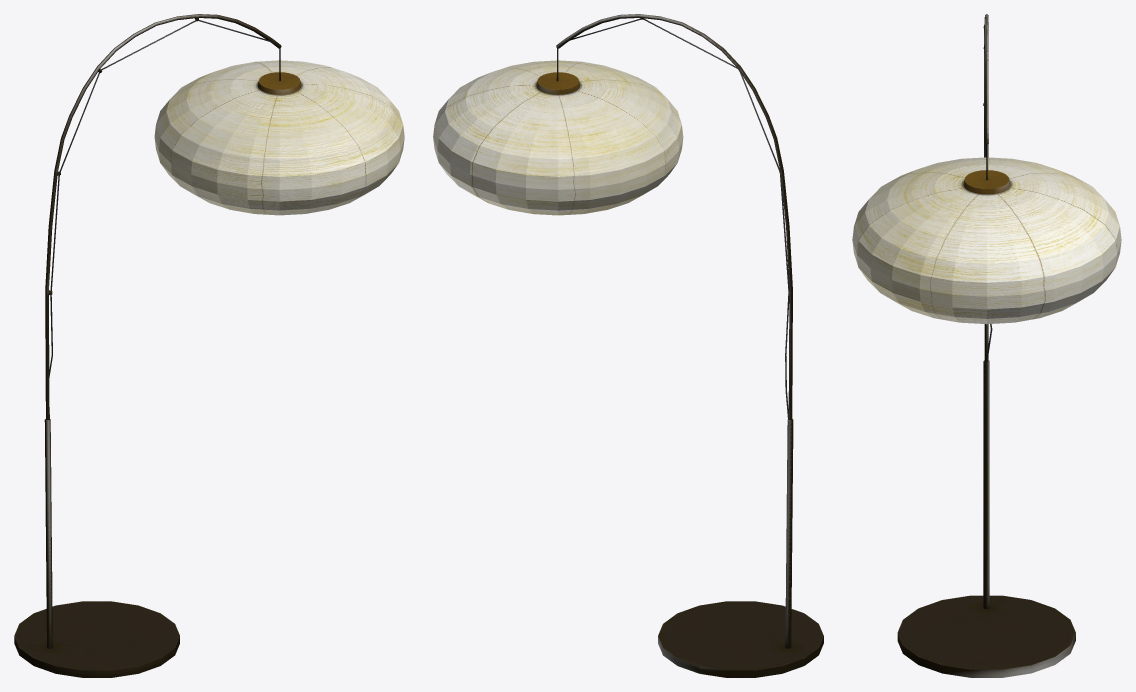
File: Lamp2.a.fbx
3 views of the same model, side by side, from view 1: azimuth 30°, elevation 25°; view 2: azimuth 150°, elevation 25°; view 3: azimuth 270°, elevation 25° (orthographic). The views are drawn at different scales.
Parts seen in each view (by area): view 1: Group 0; view 2: Group 0; view 3: Group 0.
Part boxes in pixels (left/top/right/bottom): Group 0: left=14, top=14, right=404, bottom=677; Group 0: left=433, top=14, right=823, bottom=677; Group 0: left=852, top=14, right=1121, bottom=677.
Bounding box in the file's own units: 134 × 215 × 80.23.
Materials: 2 (2 with a texture image).
